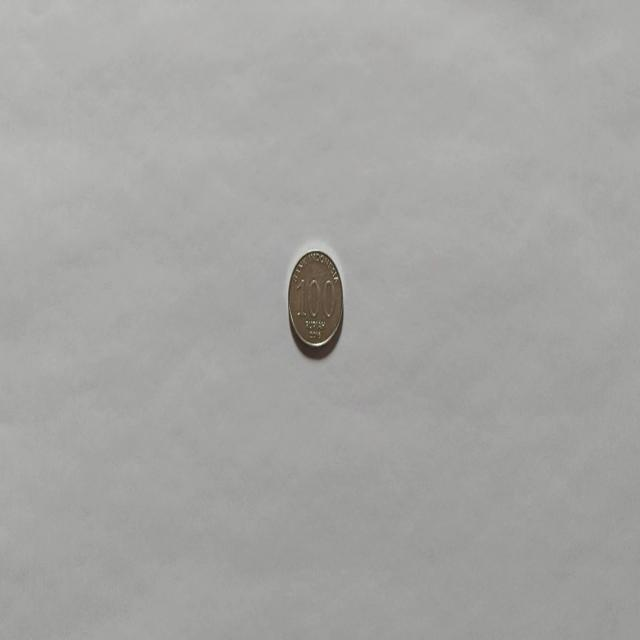seratus rupiah: (286, 248, 344, 351)
